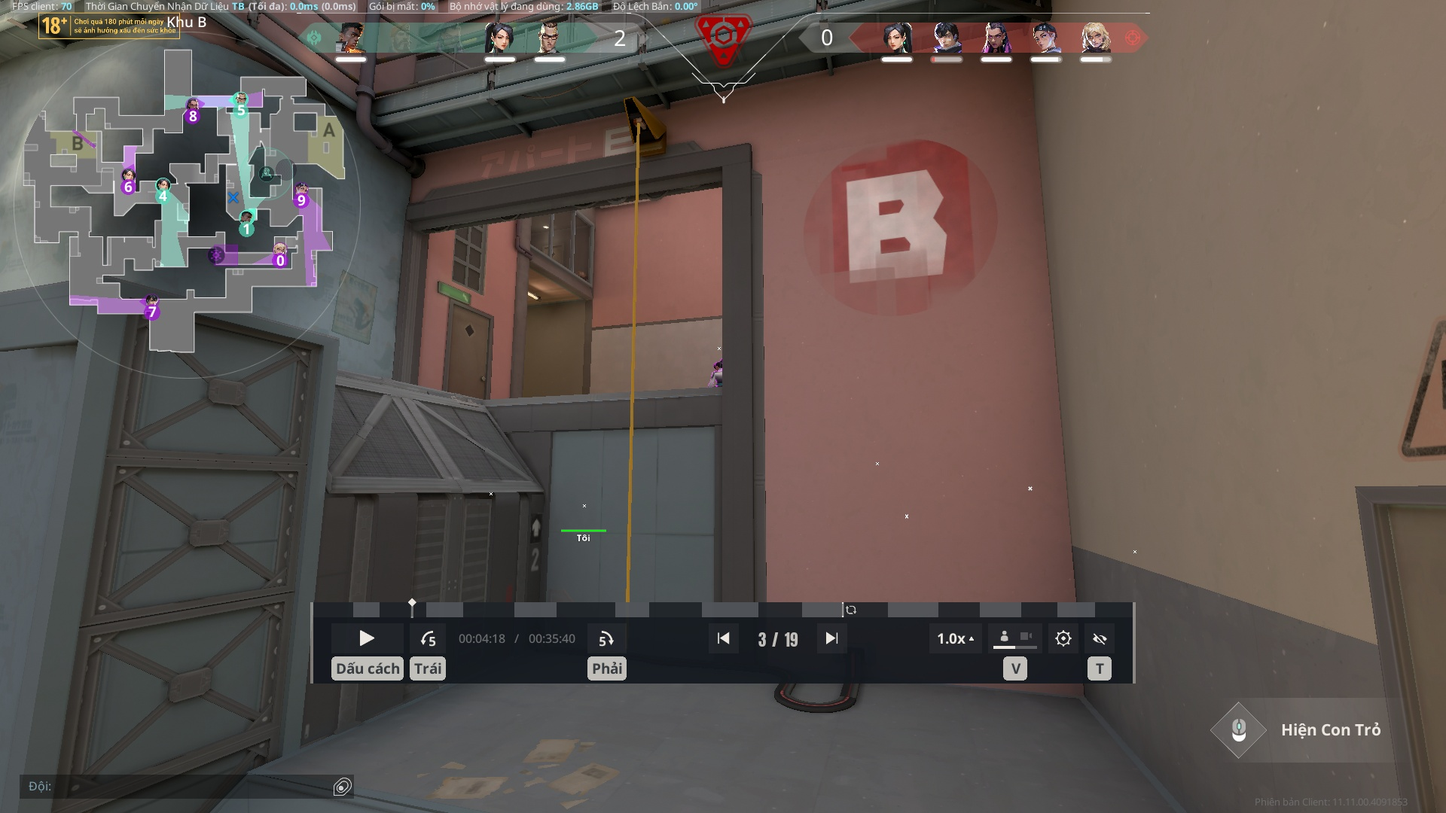body: (710, 369, 723, 385)
head: (712, 359, 721, 369)
